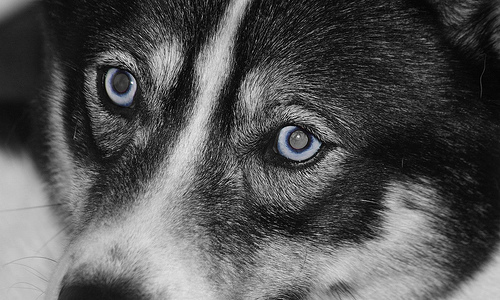dog: (22, 0, 499, 299)
